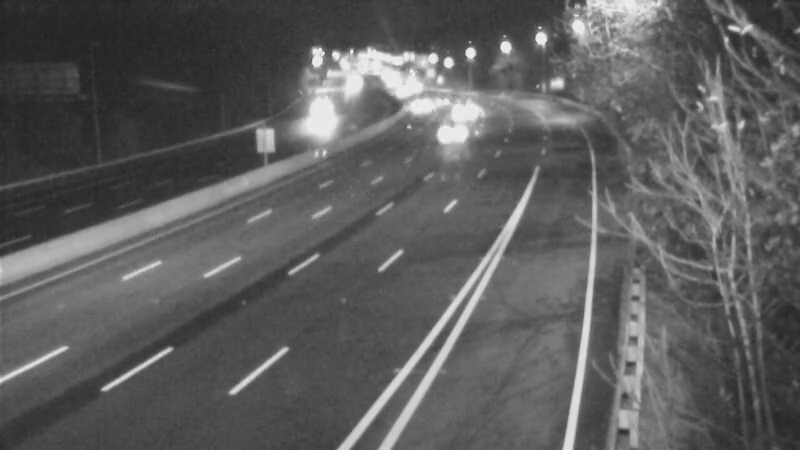vehicle: (417, 75, 467, 125), (396, 81, 446, 131), (437, 81, 487, 131), (427, 106, 477, 156), (291, 94, 341, 144), (326, 61, 376, 111)
